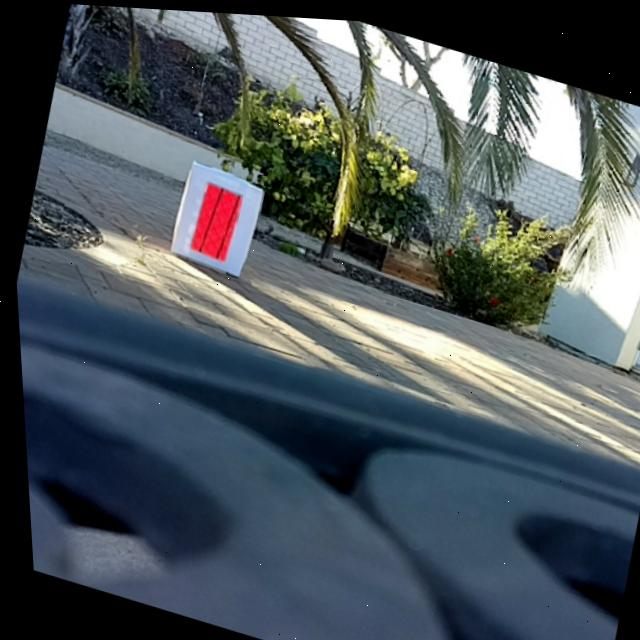led: (184, 179, 243, 260)
